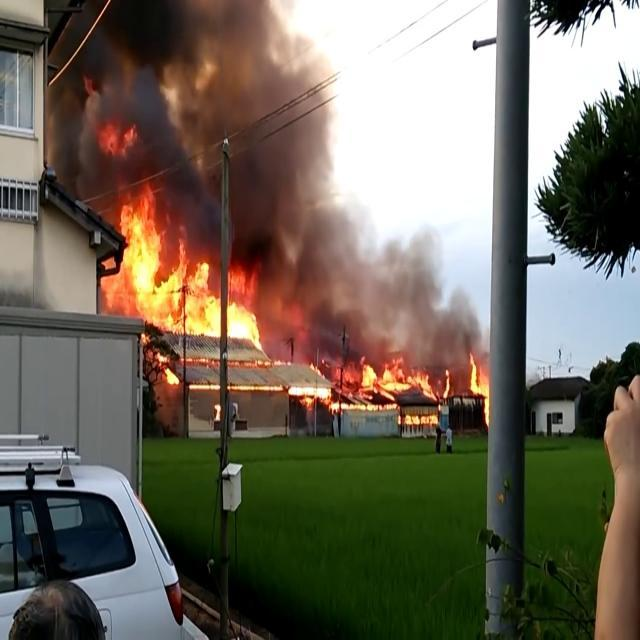Fire: (227, 262, 451, 424), (95, 186, 221, 426), (95, 119, 139, 157), (470, 350, 490, 424)
Smoke: (45, 1, 491, 396)
